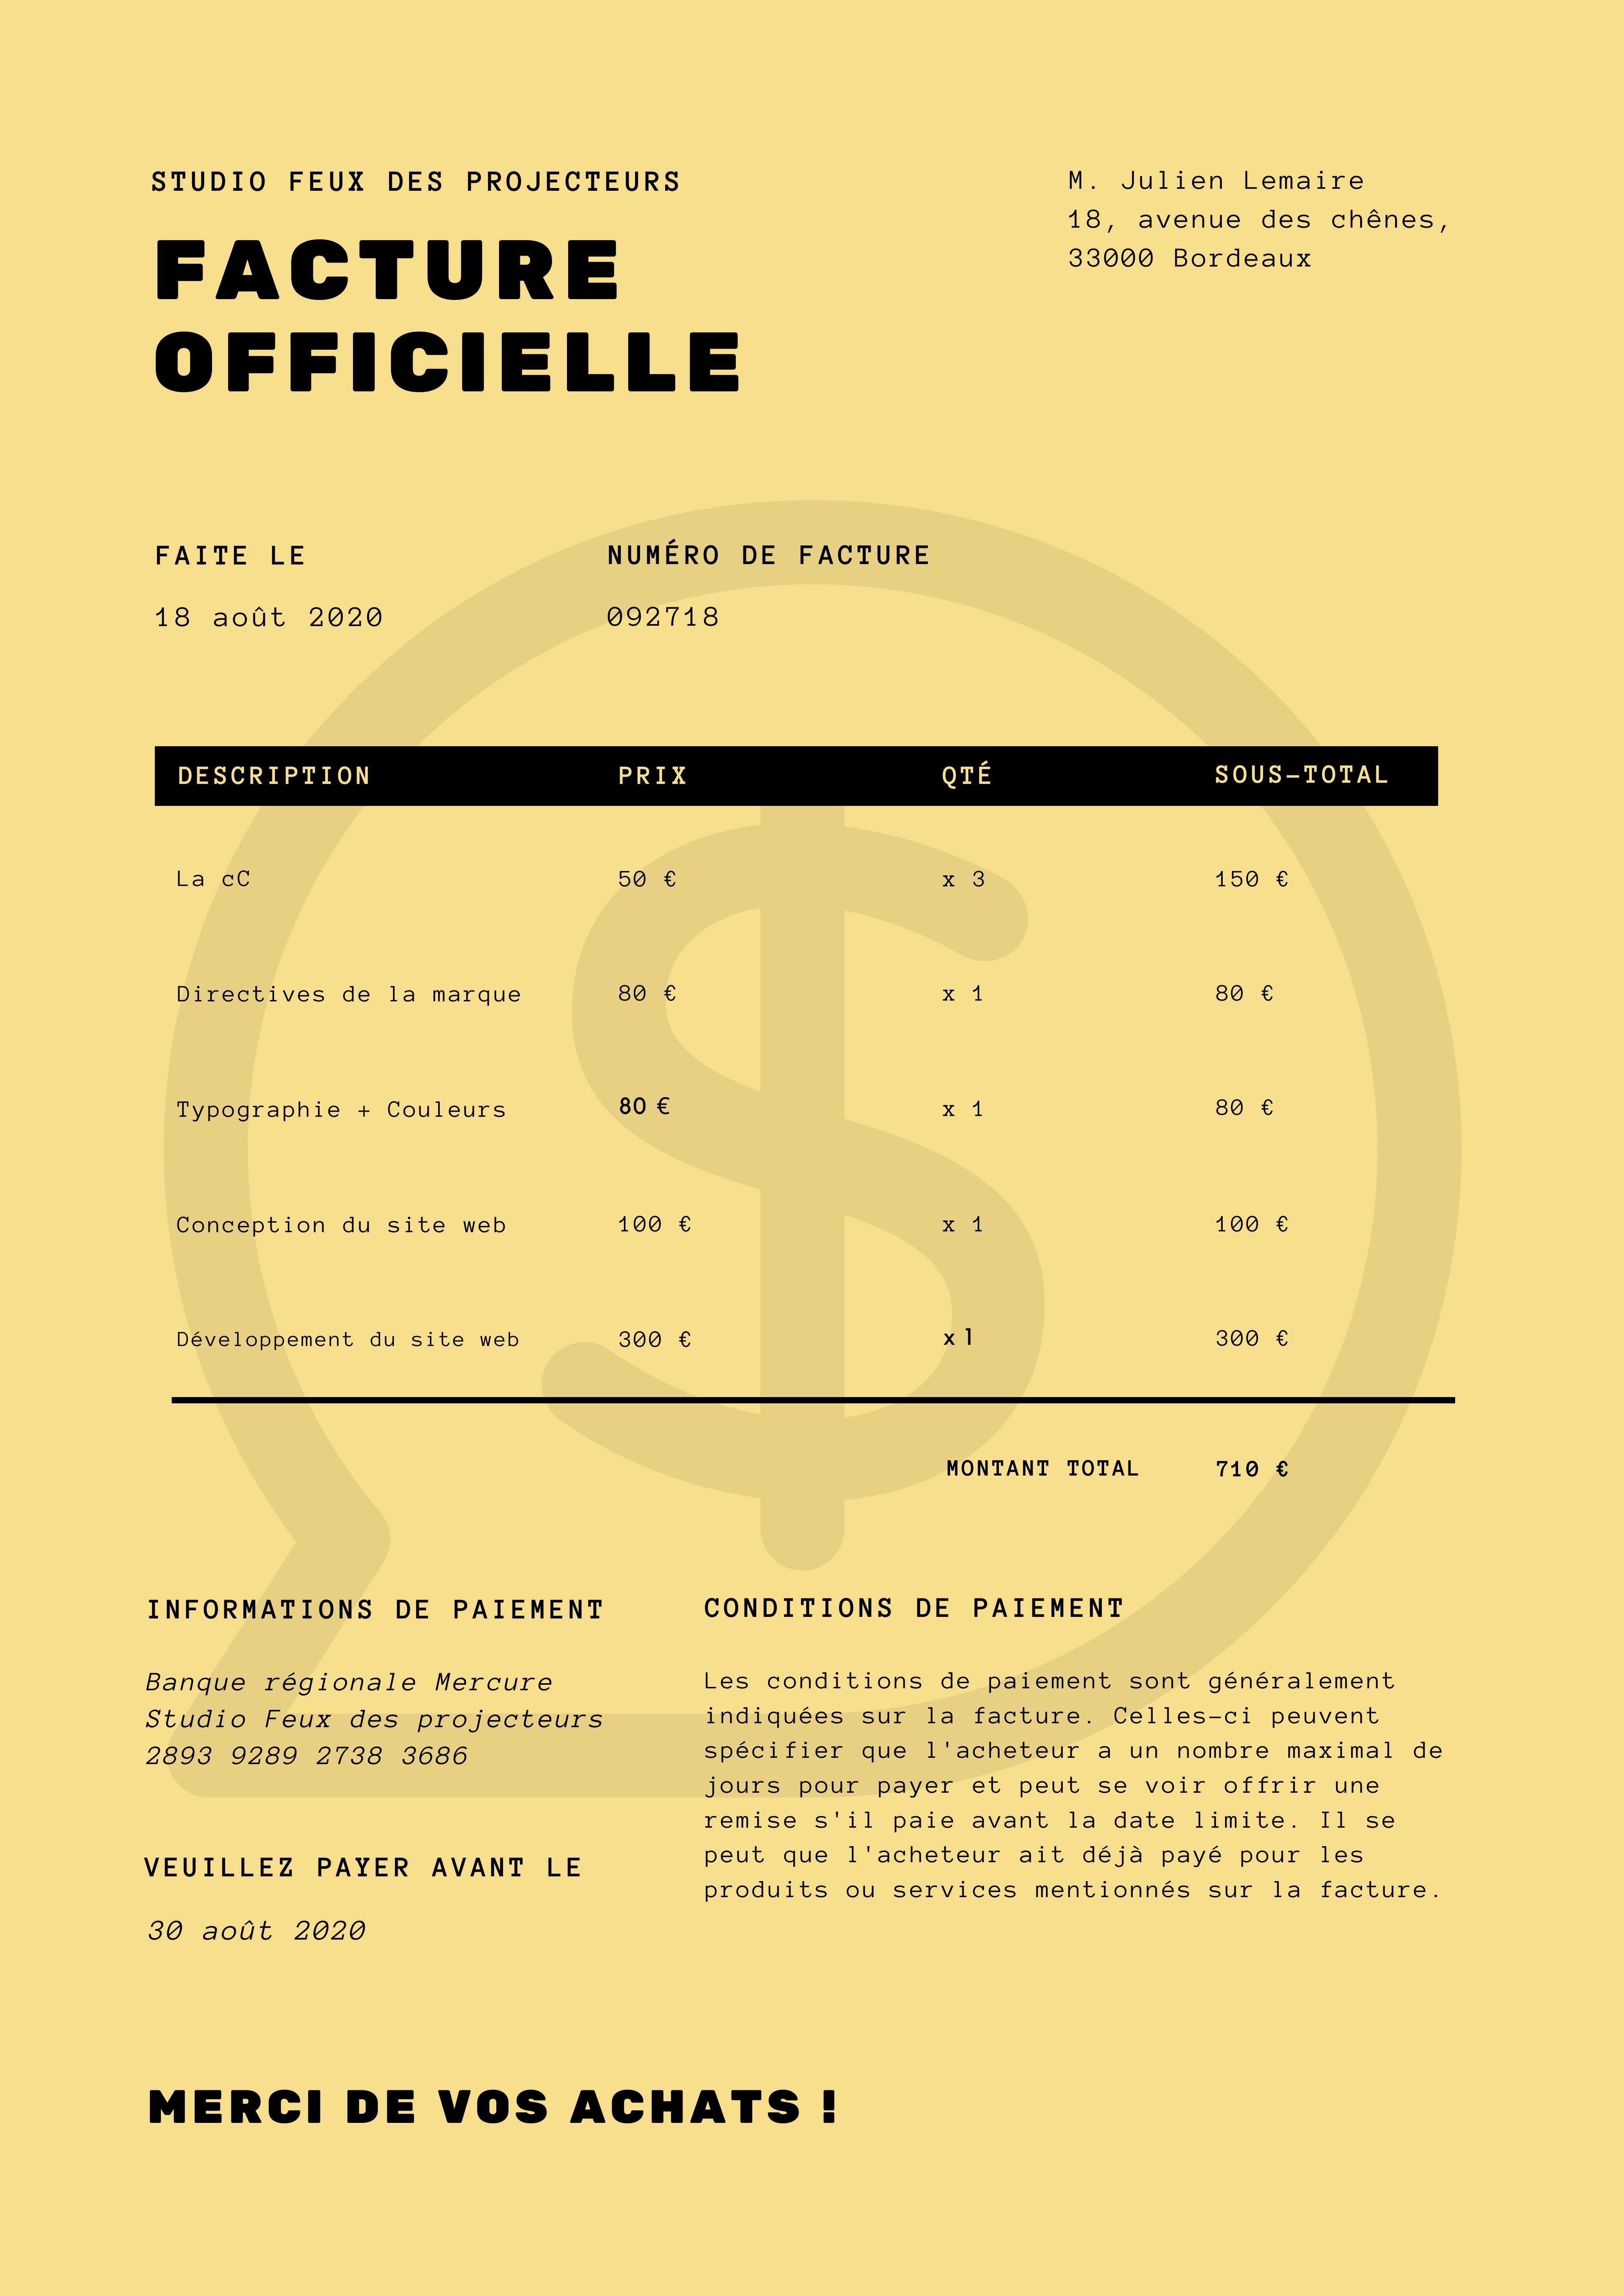ROI: (153, 745, 1441, 1397), (118, 1588, 642, 1946), (128, 523, 1002, 641), (1039, 148, 1515, 285), (116, 151, 724, 202), (935, 1440, 1306, 1497)
